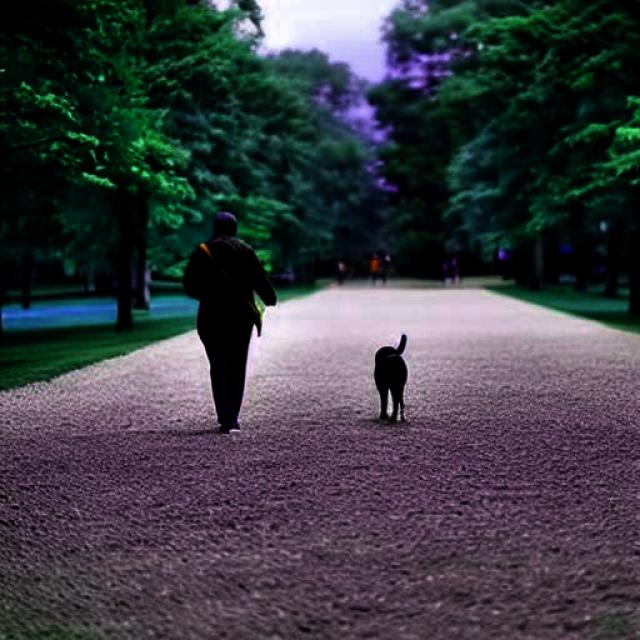Unleashed_Dog: (201, 304, 409, 424)
